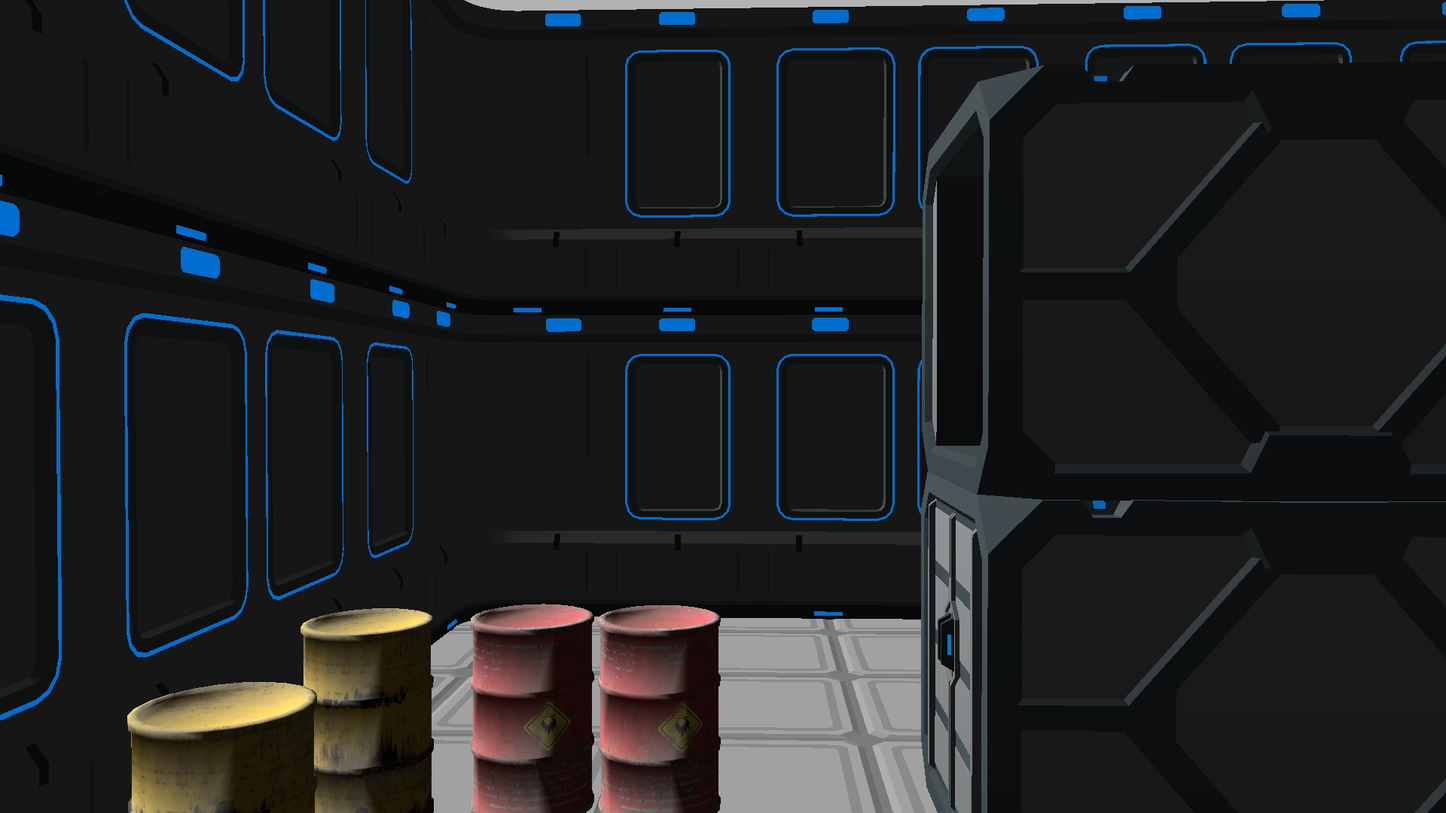toxic barrel: (300, 609, 435, 813), (470, 604, 594, 813), (598, 605, 721, 813), (127, 682, 317, 813)
